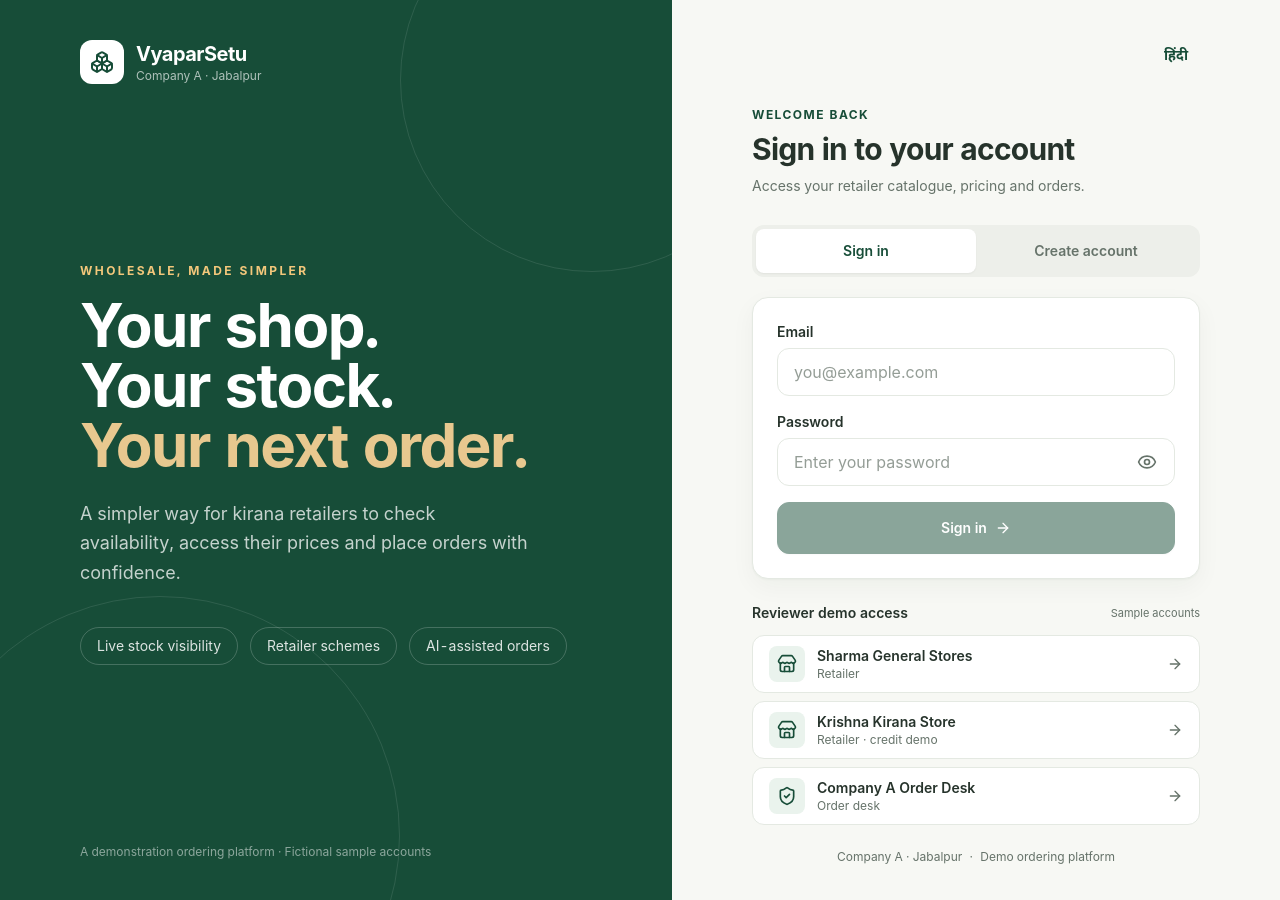
Scenario: Login › disables sign-in until both fields are filled
The image size is (1280, 900).
expect the button "Sign in" below "Password" is disabled: met, box [777,502,1175,554]
Type "a@b.test" into the field labelled "Email" at (976, 372), box [777,348,1175,396]
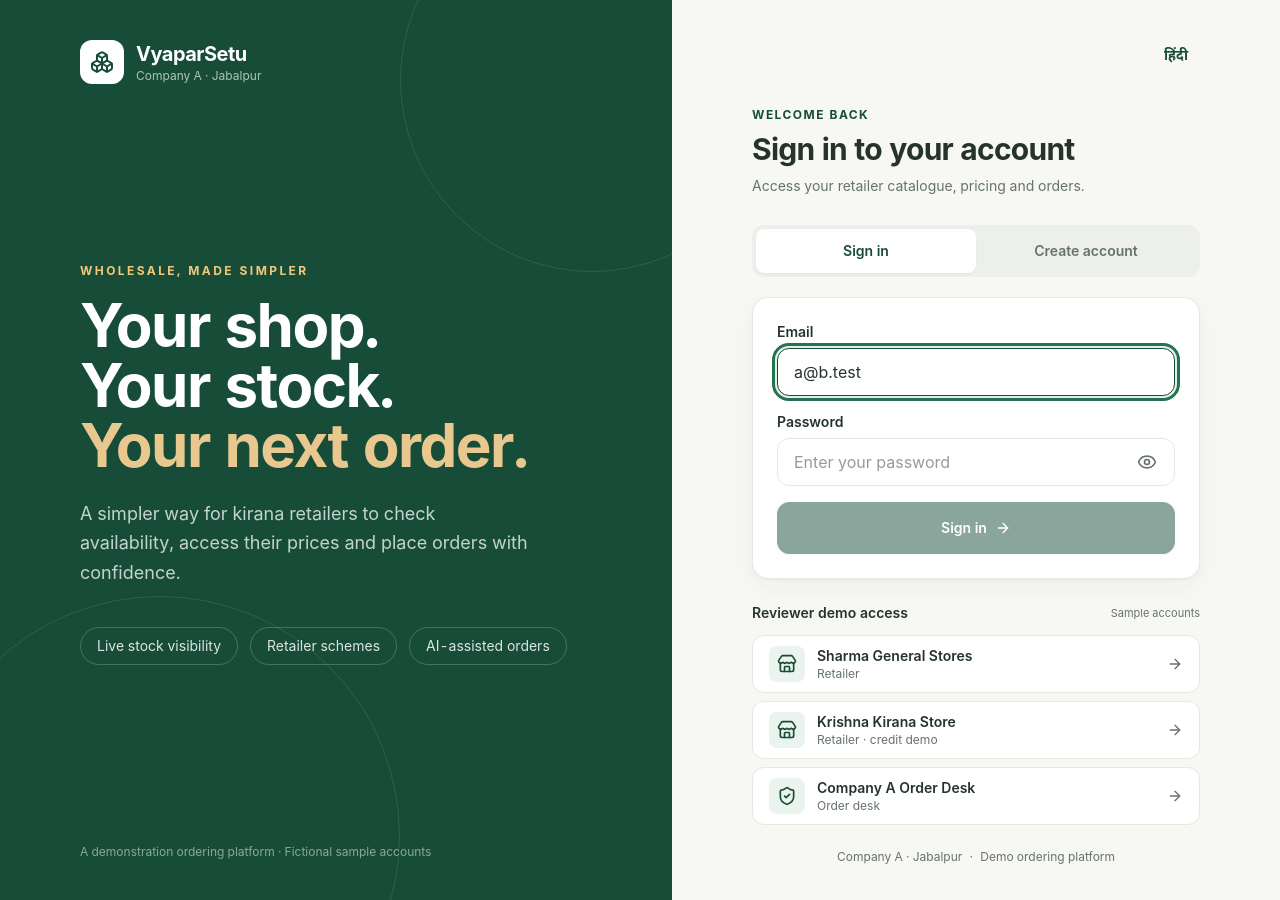
Type "x" into the password field labelled "Password" at (976, 462), box [777,438,1175,486]
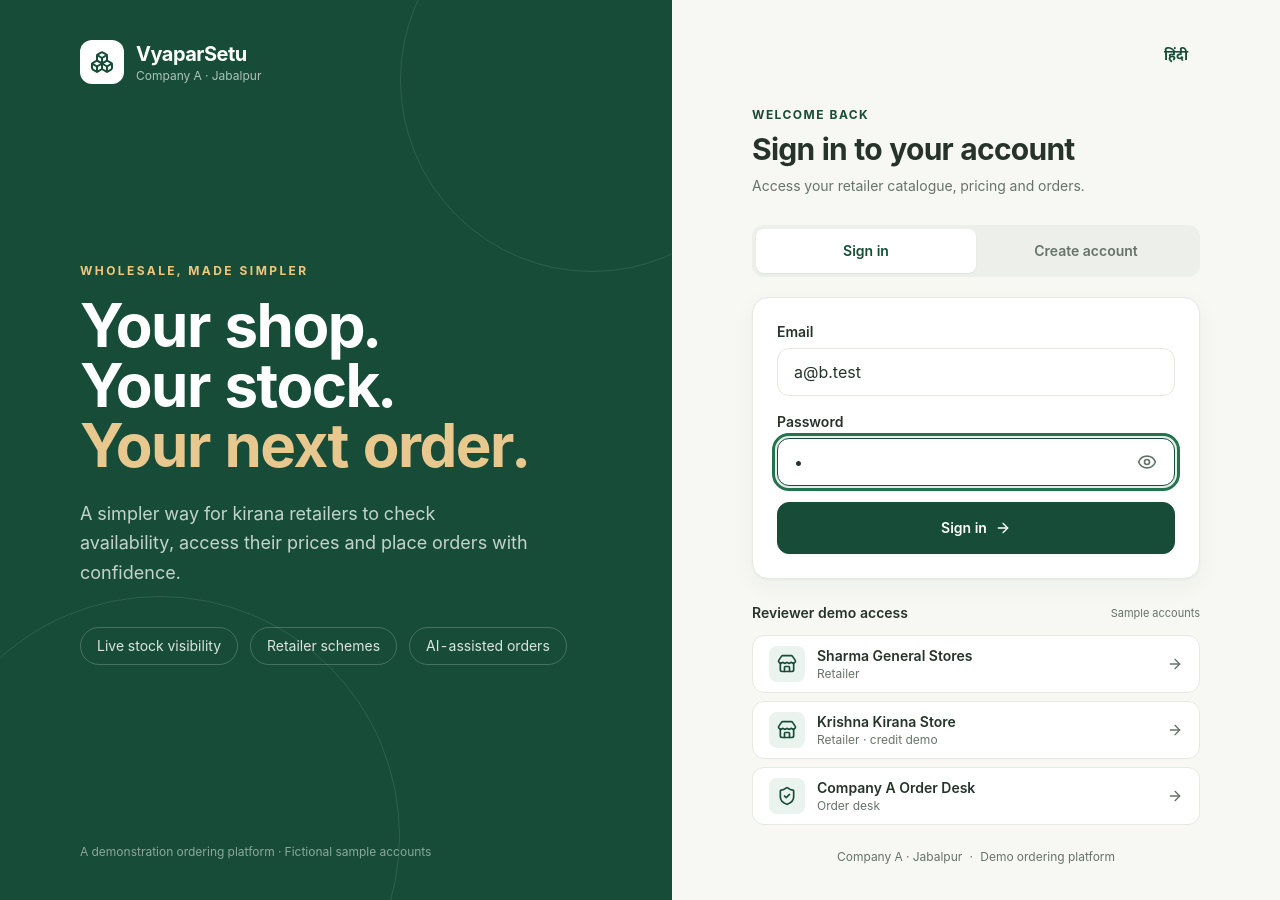
expect the button "Sign in" below "Password" is enabled: met, box [777,502,1175,554]
